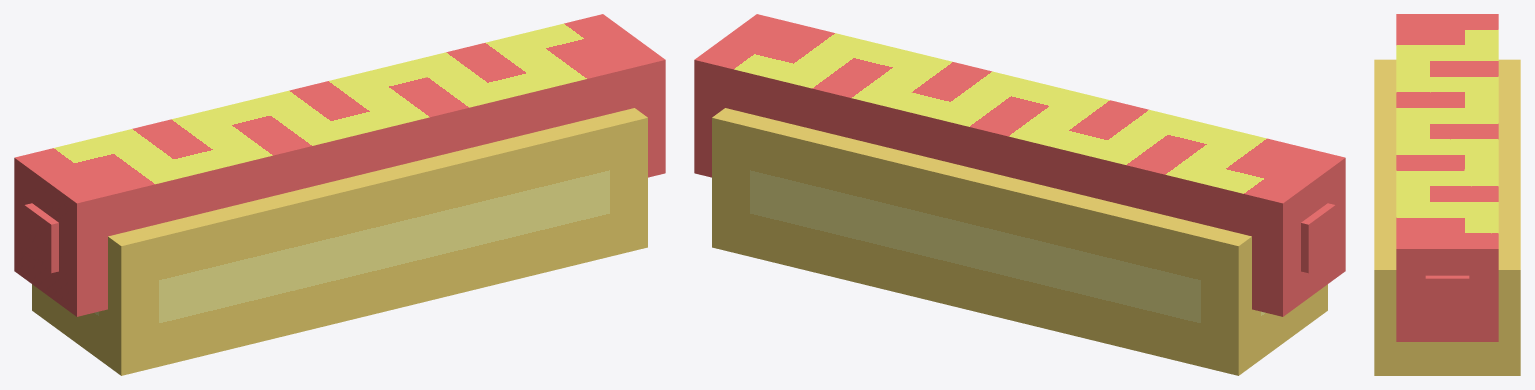
Rendered from hotdog.fbx.
The picture shows the model from 3 angles, left to right: view 1: azimuth 30°, elevation 25°; view 2: azimuth 150°, elevation 25°; view 3: azimuth 270°, elevation 25°; orthographic projection. The views are drawn at different scales.
Parts seen in each view (by area): view 1: cube, cube_1, cube_3; view 2: cube, cube_1, cube_3; view 3: cube_1, cube, cube_2.
Boxes of the visible parts, left/top/right/bottom form: cube: left=32, top=108, right=647, bottom=375; cube_1: left=14, top=14, right=665, bottom=316; cube_3: left=24, top=203, right=58, bottom=273; cube: left=712, top=108, right=1327, bottom=375; cube_1: left=694, top=14, right=1345, bottom=316; cube_3: left=1301, top=203, right=1335, bottom=273; cube_1: left=1396, top=14, right=1498, bottom=341; cube: left=1374, top=59, right=1520, bottom=375; cube_2: left=1425, top=275, right=1469, bottom=318.
Bounding box in the file's own units: 12.19 × 3.28 × 3.13.
